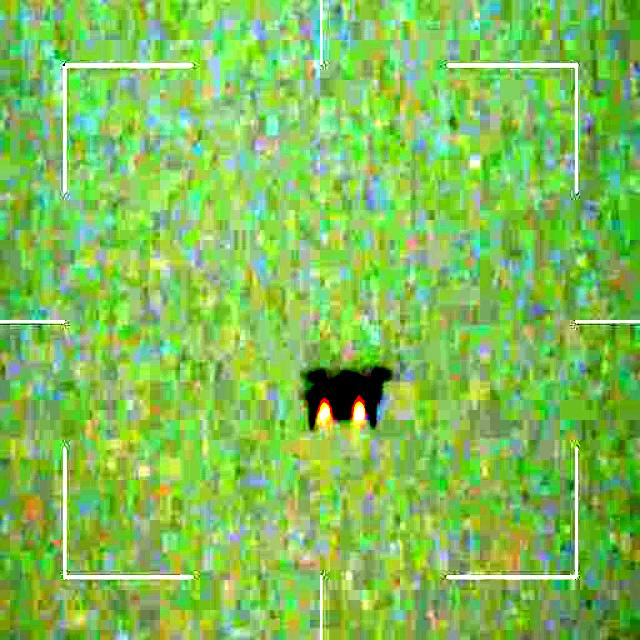bird: (304, 362, 394, 429)
